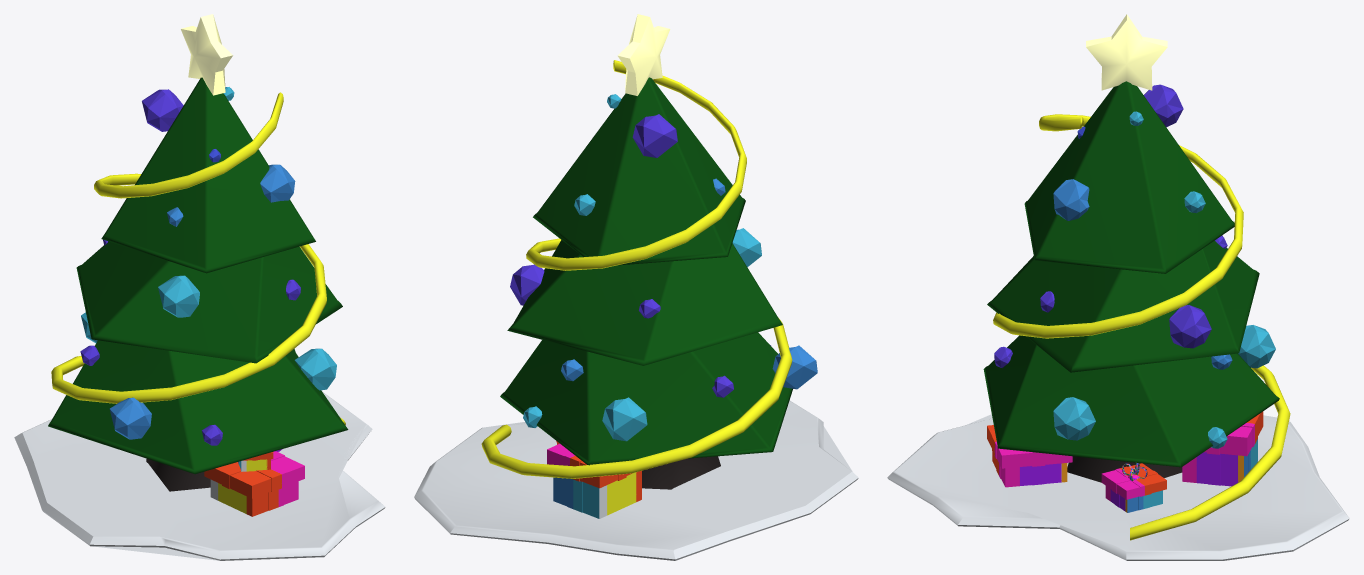
The model's file is tree.glb.
3 views of the same model, side by side, from view 1: azimuth 30°, elevation 25°; view 2: azimuth 150°, elevation 25°; view 3: azimuth 270°, elevation 25° (orthographic).
Visible parts, largest first — view 1: boll_lambert1_0; view 2: boll_lambert1_0; view 3: boll_lambert1_0.
Part boxes in pixels (left/top/right/bottom): boll_lambert1_0: left=14, top=14, right=385, bottom=560; boll_lambert1_0: left=414, top=14, right=858, bottom=560; boll_lambert1_0: left=887, top=14, right=1349, bottom=560.
Bounding box in the file's own units: 3.26 × 4.28 × 3.88.
Materials: 2 (1 with a texture image).
